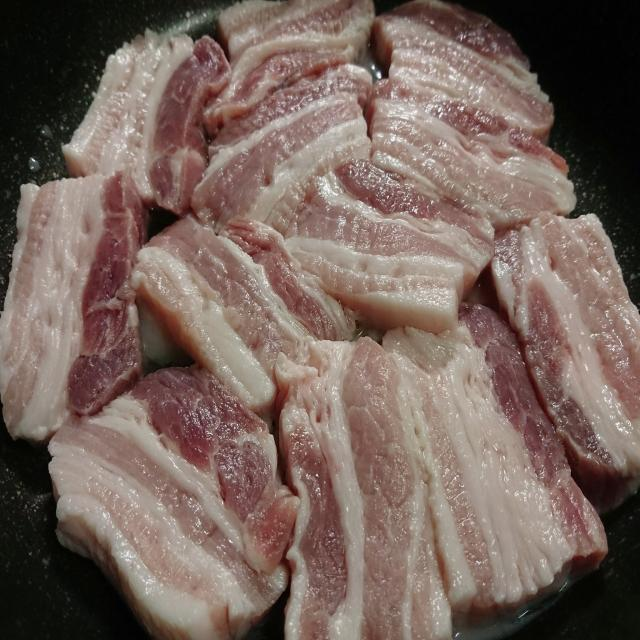NG raw pork,: (378, 296, 622, 618), (38, 360, 298, 640), (266, 325, 460, 640), (130, 214, 362, 417), (488, 201, 640, 491), (263, 154, 494, 330), (0, 172, 148, 439), (368, 67, 593, 229), (58, 24, 237, 224), (192, 58, 372, 244), (368, 0, 559, 139), (202, 0, 384, 129)
